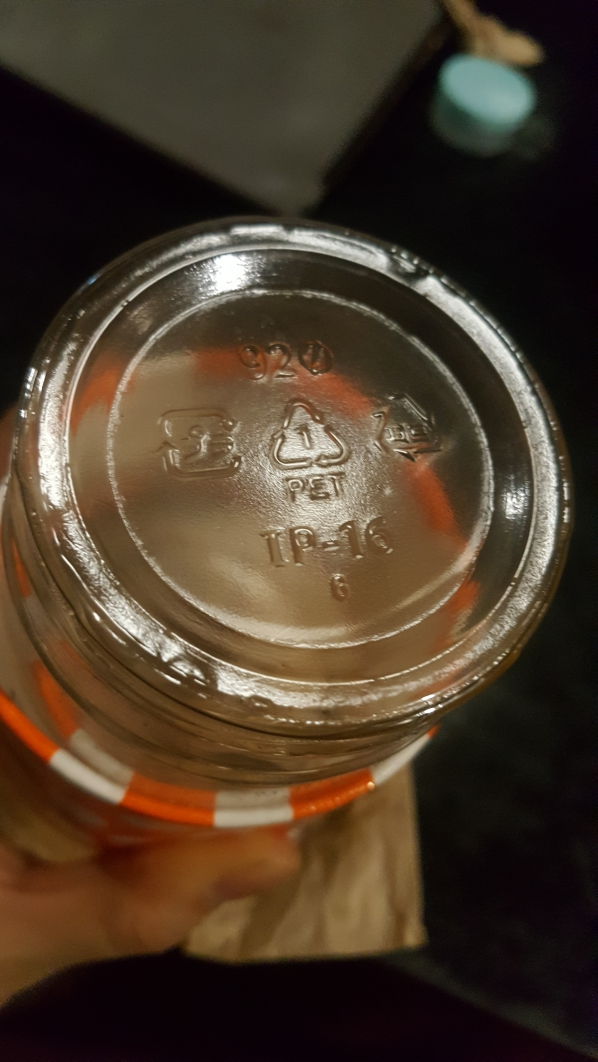recycle: (265, 394, 358, 503)
